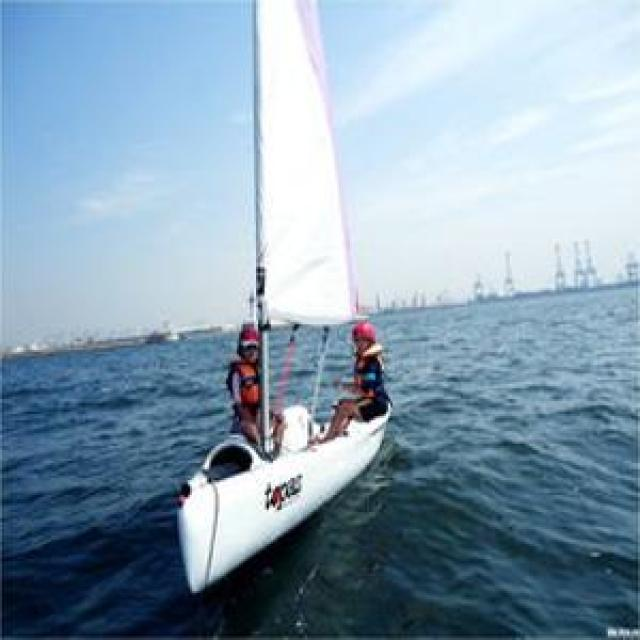sailboat: (167, 1, 395, 585)
